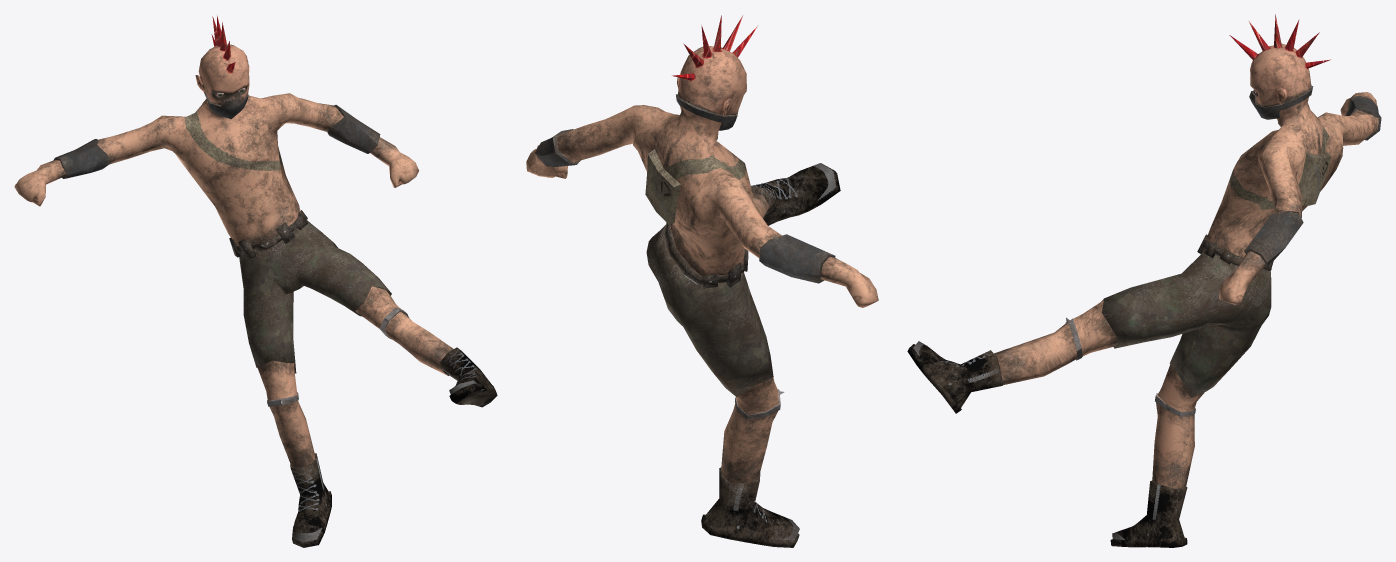
File: Anim_ataque_f3_npc2.0029.obj
3 views of the same model, side by side, from view 1: azimuth 30°, elevation 25°; view 2: azimuth 150°, elevation 25°; view 3: azimuth 270°, elevation 25° (orthographic). The views are drawn at different scales.
Parts seen in each view (by area): view 1: polySurface1; view 2: polySurface1; view 3: polySurface1.
Boxes of the visible parts, <box> form: polySurface1: <box>14,15,497,547</box>; polySurface1: <box>526,15,878,547</box>; polySurface1: <box>907,14,1381,547</box>.
Bounding box in the file's own units: 7.43 × 9.94 × 8.16.
